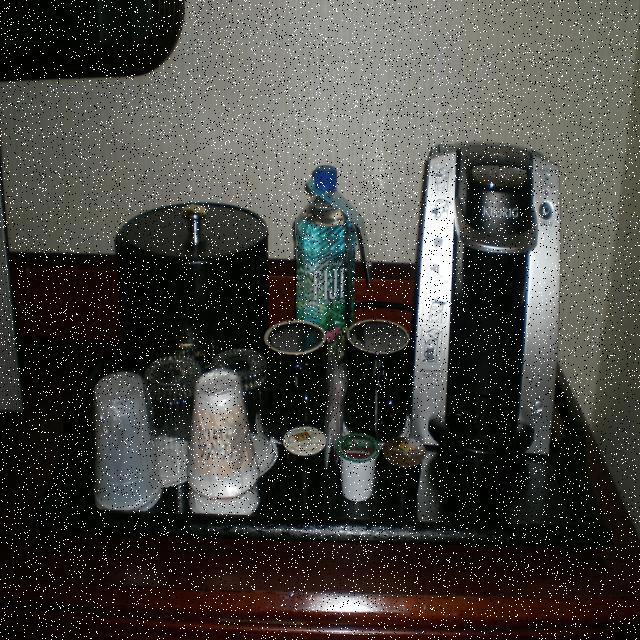Coffee-Machine: (390, 125, 590, 560)
